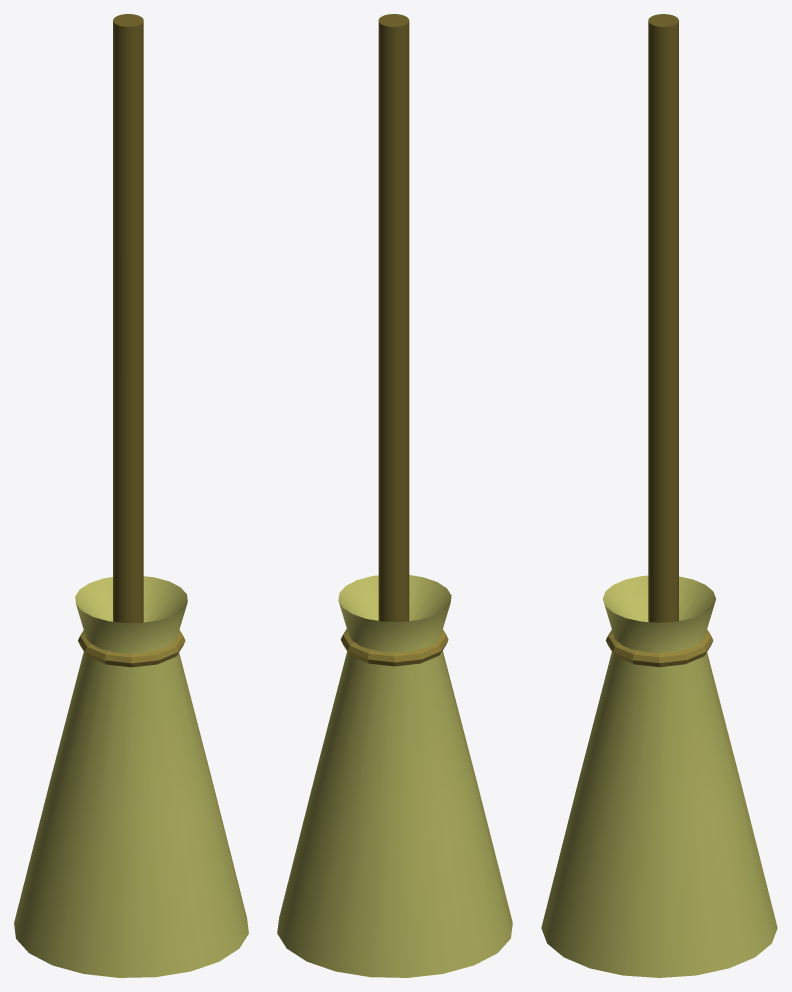
File: Broom.fbx
3 renders of one model, left to right at view 1: azimuth 30°, elevation 25°; view 2: azimuth 150°, elevation 25°; view 3: azimuth 270°, elevation 25°, orthographic.
Visible parts, largest first — view 1: pCylinder3; view 2: pCylinder3; view 3: pCylinder3.
Boxes of the visible parts, x1=… form: pCylinder3: x1=14, y1=14, x2=248, y2=977; pCylinder3: x1=277, y1=14, x2=512, y2=977; pCylinder3: x1=541, y1=14, x2=777, y2=977.
Bounding box in the file's own units: 3.07 × 13.01 × 3.07.
